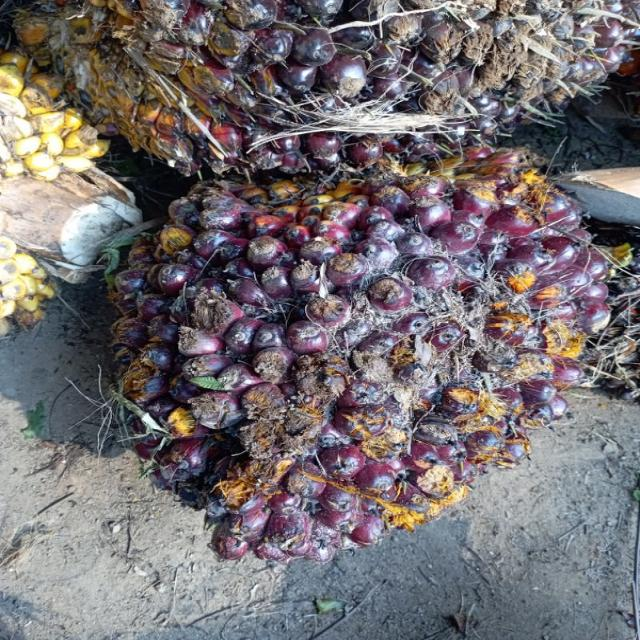fraksi 1: (107, 142, 616, 569)
